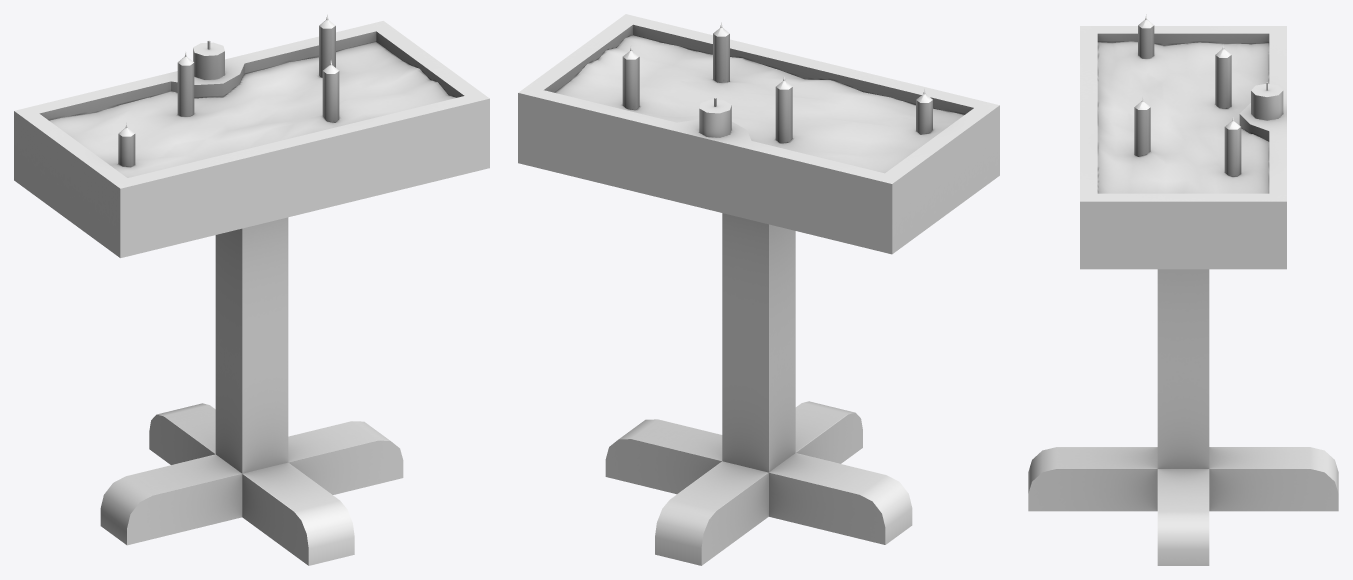
The model's file is candle_stand.fbx.
3 renders of one model, left to right at view 1: azimuth 30°, elevation 25°; view 2: azimuth 150°, elevation 25°; view 3: azimuth 270°, elevation 25°, orthographic. The views are drawn at different scales.
Visible parts, largest first — view 1: stand; view 2: stand; view 3: stand.
Boxes of the visible parts, x1=… form: stand: x1=14, y1=14, x2=489, y2=565; stand: x1=518, y1=14, x2=999, y2=565; stand: x1=1028, y1=14, x2=1338, y2=565.
Size of the model in its own units: 401 by 464 by 300.
